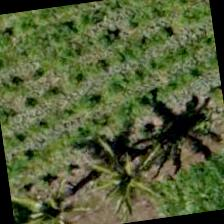Kelapa_Sawit: (73, 128, 176, 223), (6, 155, 94, 223)
